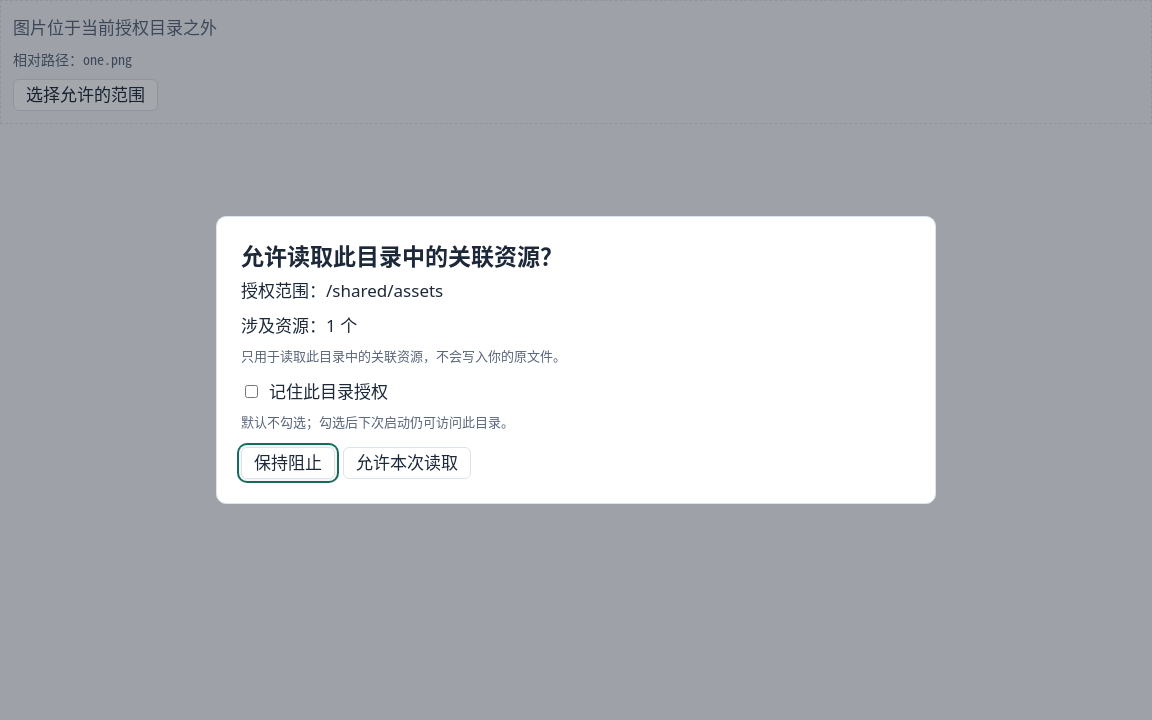
Test: local out-of-root flow (T-57) › treats a failed grant like a denial: error surfaced once, placeholder kept, no auto re-prompt
The width and height of the screenshot is (1152, 720).
Step 1. Click the button "允许本次读取" → click(407, 463), box [343, 446, 471, 479]
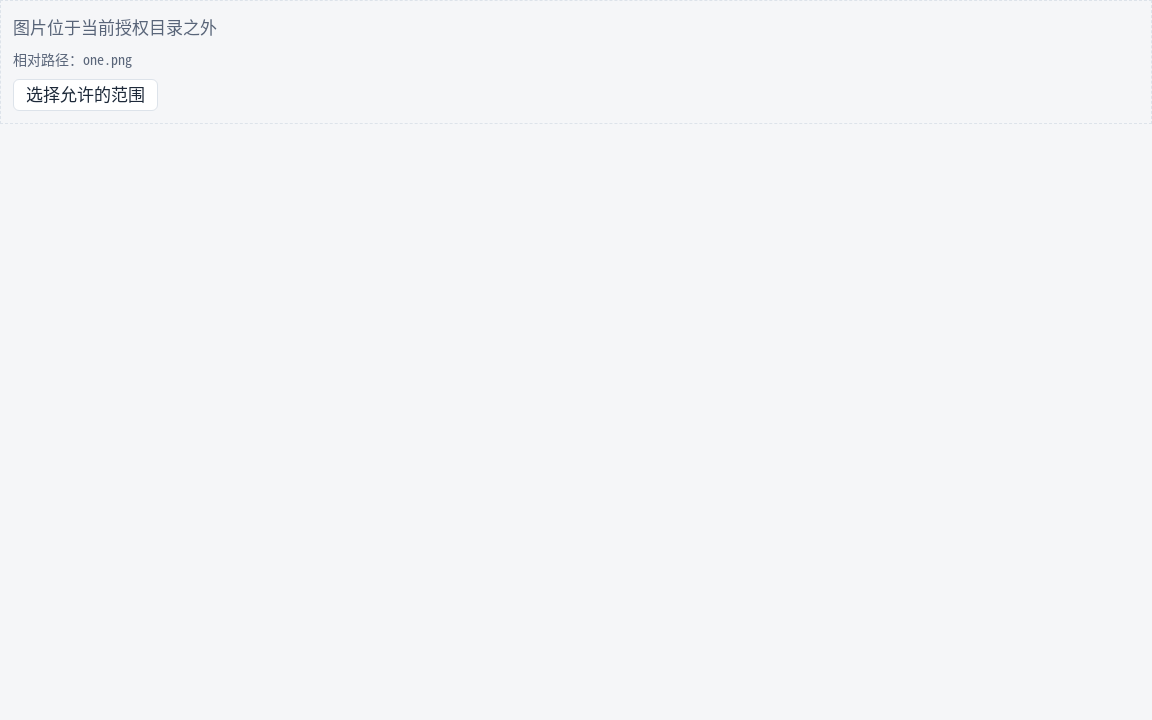
Check: the text "图片位于当前授权目录之外" is shown, box [13, 16, 217, 39]
Check: the dialog is gone
